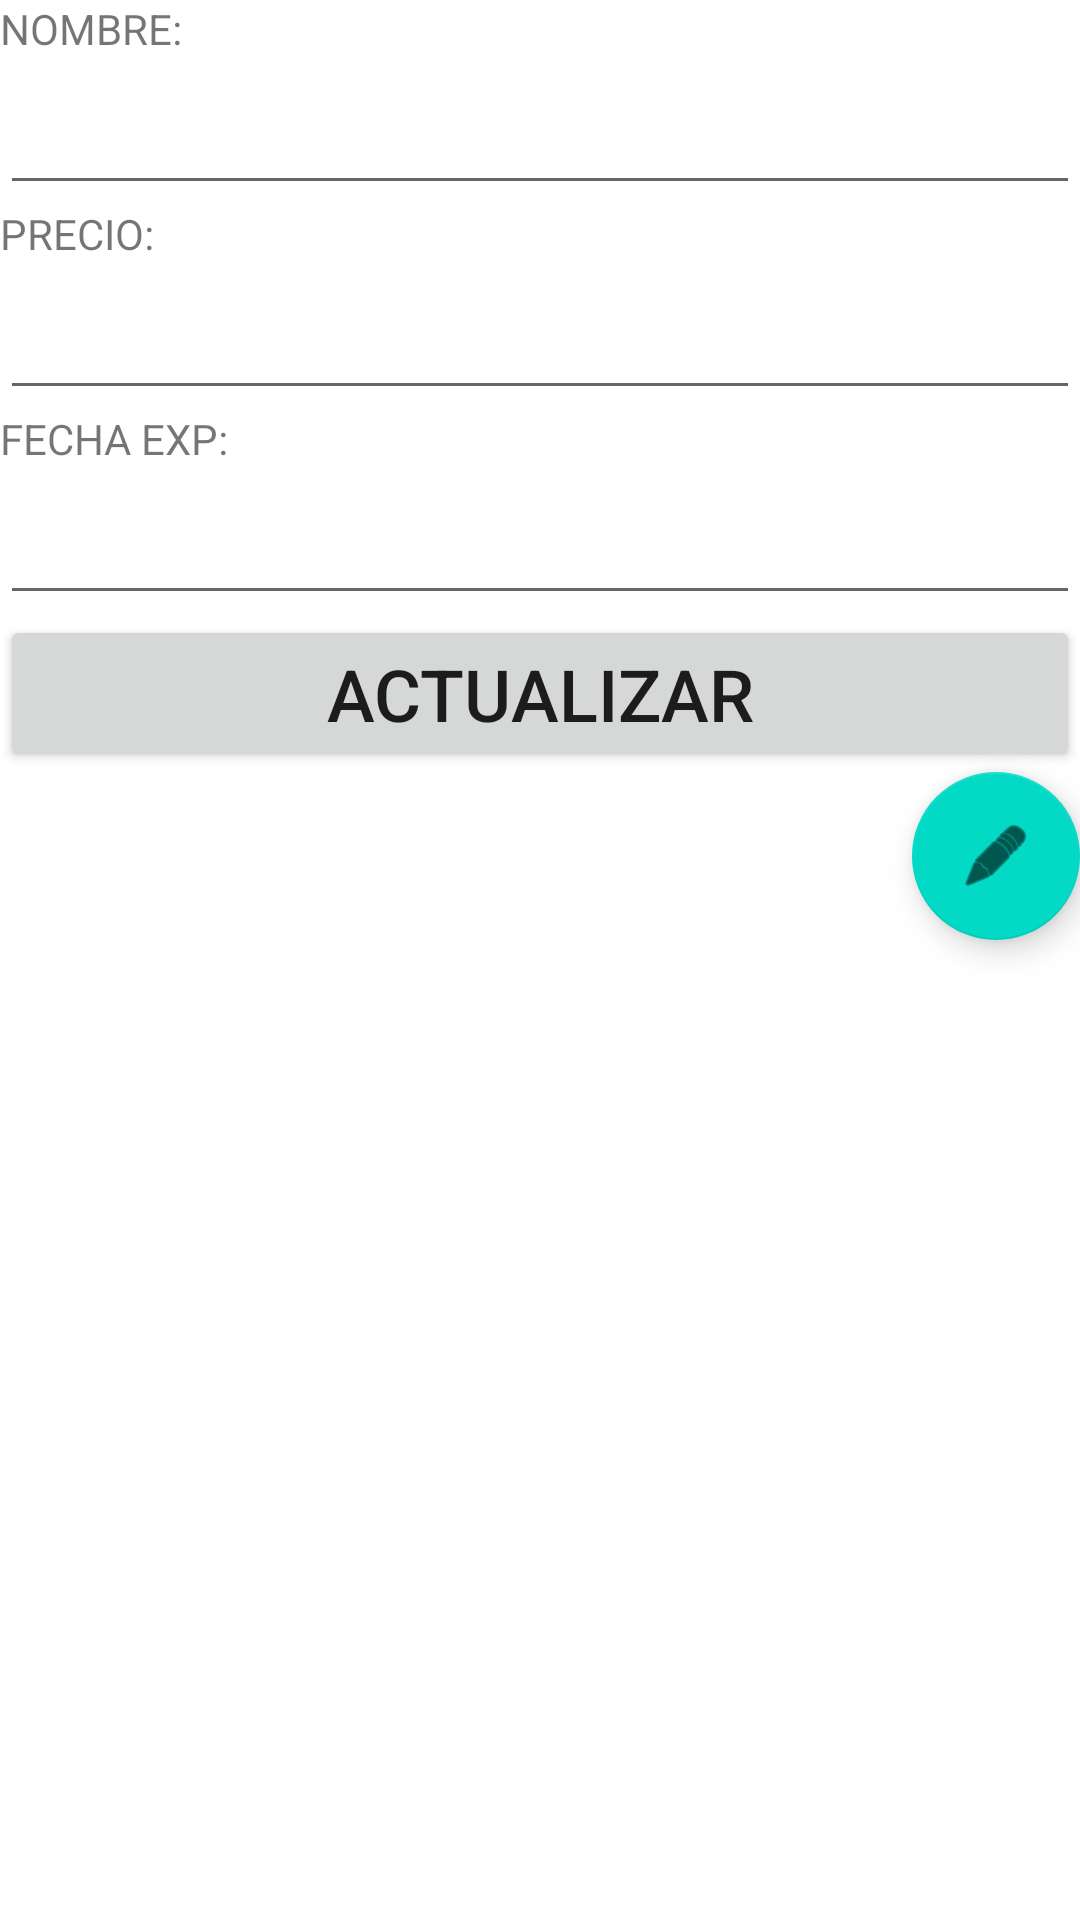

Icons on this 1080×1920 Android screen, each with its box as [x1=x1, y1=y1, x2=x2, y2=y2]:
edit: [x1=912, y1=772, x2=1080, y2=940]
